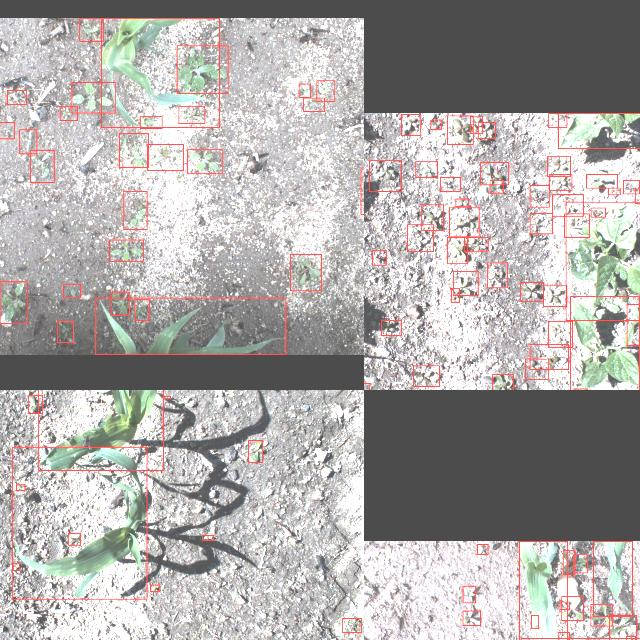crop: (12, 446, 146, 598), (101, 18, 219, 126), (96, 298, 286, 354), (38, 390, 163, 469), (566, 201, 640, 320), (570, 295, 639, 390), (518, 540, 567, 640), (594, 540, 632, 616), (558, 112, 640, 147)
weed: (176, 45, 228, 93), (72, 81, 115, 112), (290, 253, 322, 290), (0, 281, 28, 323), (369, 160, 401, 190), (120, 133, 148, 167), (147, 144, 183, 170), (530, 344, 568, 368), (449, 207, 479, 236), (124, 191, 146, 229), (188, 149, 222, 173), (30, 150, 54, 182), (552, 193, 584, 215), (408, 223, 434, 250), (448, 115, 472, 144), (109, 240, 143, 260), (610, 614, 636, 640), (548, 321, 572, 347), (564, 213, 590, 237), (481, 162, 509, 184), (454, 271, 478, 295), (626, 303, 640, 344), (421, 204, 443, 230), (79, 18, 103, 40), (543, 284, 567, 306), (562, 596, 584, 620), (487, 262, 507, 288), (413, 366, 439, 386), (448, 237, 468, 263), (586, 173, 618, 187), (110, 292, 130, 314), (548, 155, 570, 175), (526, 359, 548, 379), (530, 213, 552, 233), (591, 604, 613, 624), (520, 282, 544, 300), (179, 106, 205, 122), (19, 129, 36, 153), (401, 114, 421, 134), (530, 184, 548, 206), (316, 80, 334, 100), (57, 321, 73, 343), (550, 173, 572, 189), (416, 161, 438, 177), (492, 374, 513, 390), (464, 237, 488, 251), (134, 300, 150, 320), (249, 440, 263, 462), (549, 112, 567, 128), (478, 121, 496, 137), (563, 550, 575, 574), (7, 89, 27, 103), (304, 97, 324, 111), (440, 176, 460, 190), (381, 320, 401, 334), (342, 618, 362, 632), (140, 116, 162, 128), (29, 395, 43, 413), (462, 584, 476, 602), (463, 610, 481, 624), (573, 554, 587, 572), (61, 106, 78, 120), (0, 121, 14, 138), (64, 284, 80, 298), (623, 179, 639, 193), (372, 250, 386, 264), (470, 116, 482, 132), (299, 83, 311, 97), (490, 180, 502, 192), (68, 533, 80, 545), (590, 208, 606, 216), (451, 288, 459, 302), (431, 119, 441, 129), (478, 543, 488, 553), (558, 631, 569, 640), (456, 198, 468, 206), (608, 188, 620, 195), (532, 614, 538, 628), (635, 187, 640, 203), (150, 584, 160, 592), (560, 601, 570, 609), (202, 534, 214, 540), (12, 562, 20, 570), (16, 484, 26, 490), (626, 635, 635, 640), (574, 388, 588, 390), (165, 395, 171, 397)
